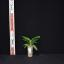leaf: (30, 36, 40, 42), (21, 36, 30, 42), (31, 38, 39, 44), (22, 39, 30, 44), (32, 45, 37, 51), (31, 44, 37, 49), (24, 45, 30, 49), (31, 41, 39, 44), (23, 43, 30, 46)
